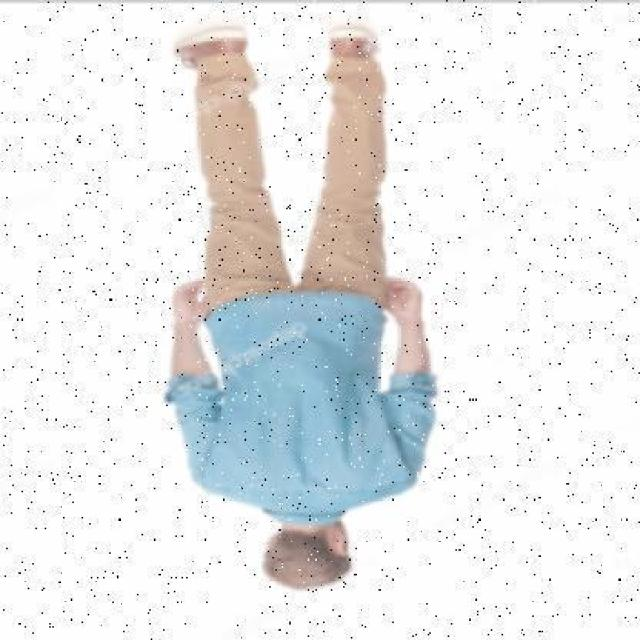person: (162, 24, 440, 594)
